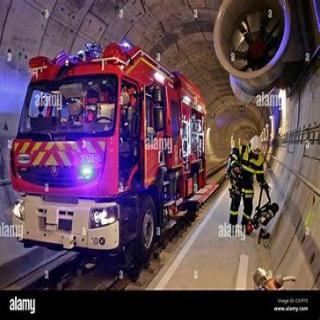Fire_truck: (7, 39, 207, 274)
